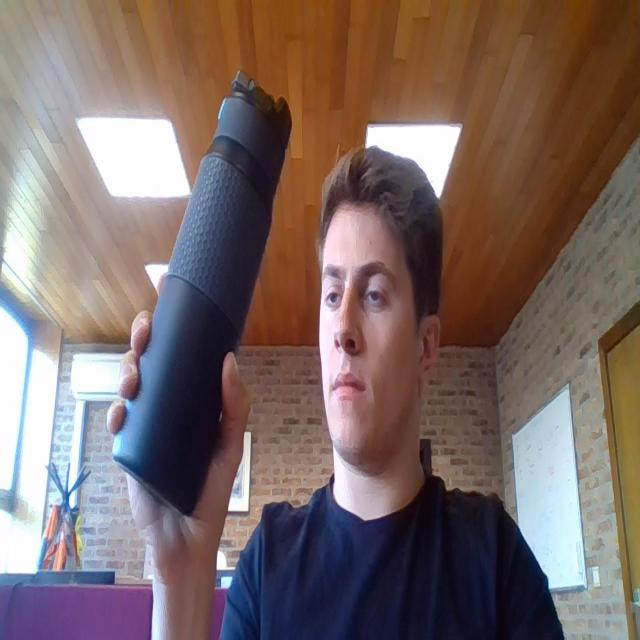bottle: (101, 63, 306, 523)
